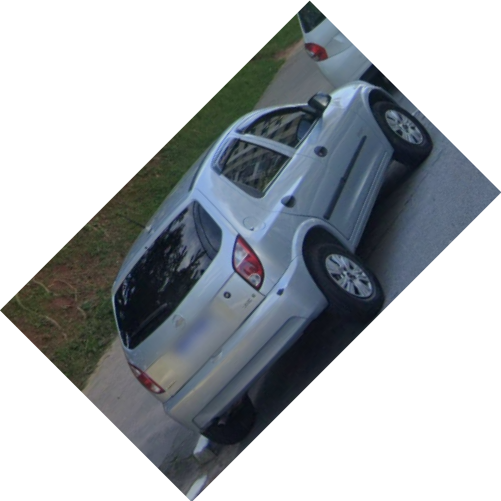car: (108, 79, 433, 447)
